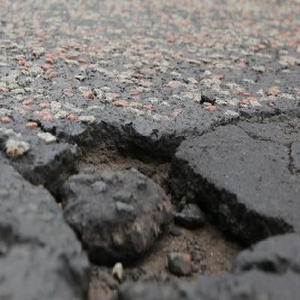pothole: (31, 121, 291, 296)
